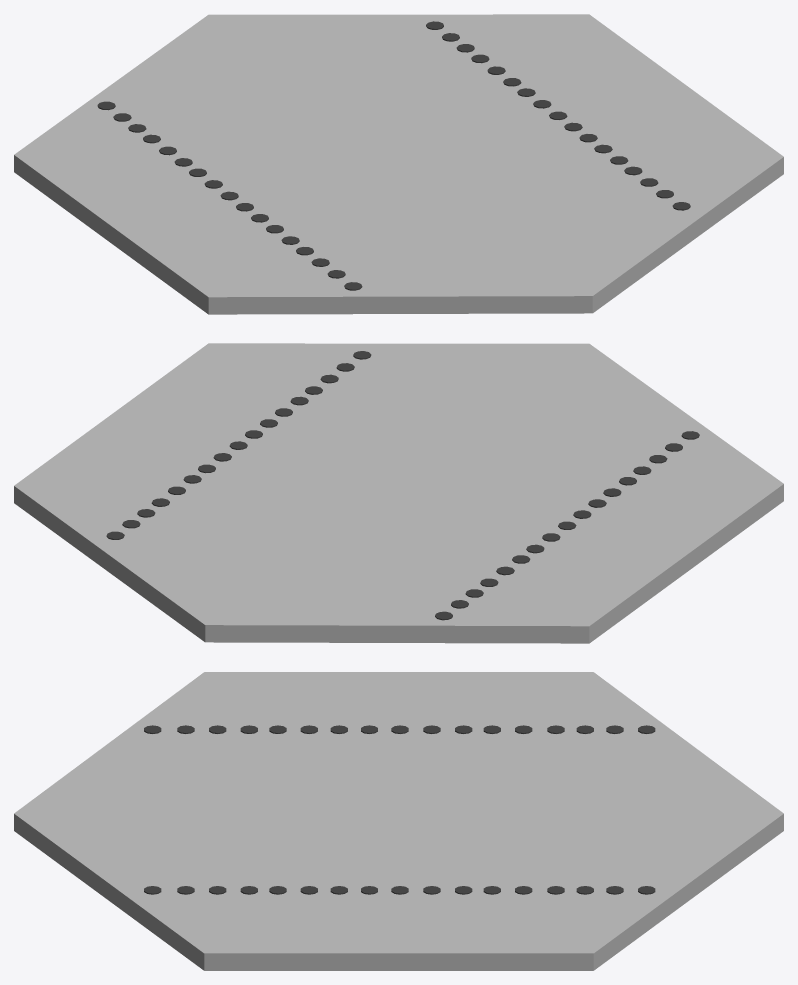
Rendered from Elevator.fbx.
3 views of the same model, one above another, from view 1: azimuth 30°, elevation 25°; view 2: azimuth 150°, elevation 25°; view 3: azimuth 270°, elevation 25° (orthographic).
Visible parts, largest first — view 1: Ascensor; view 2: Ascensor; view 3: Ascensor.
Boxes of the visible parts, x1,y1,x2,y2 form: Ascensor: (14,14,783,314); Ascensor: (14,343,783,643); Ascensor: (14,672,783,970).
Bounding box in the file's own units: 73.22 × 2.24 × 84.71.
1 material, 1 textured.
